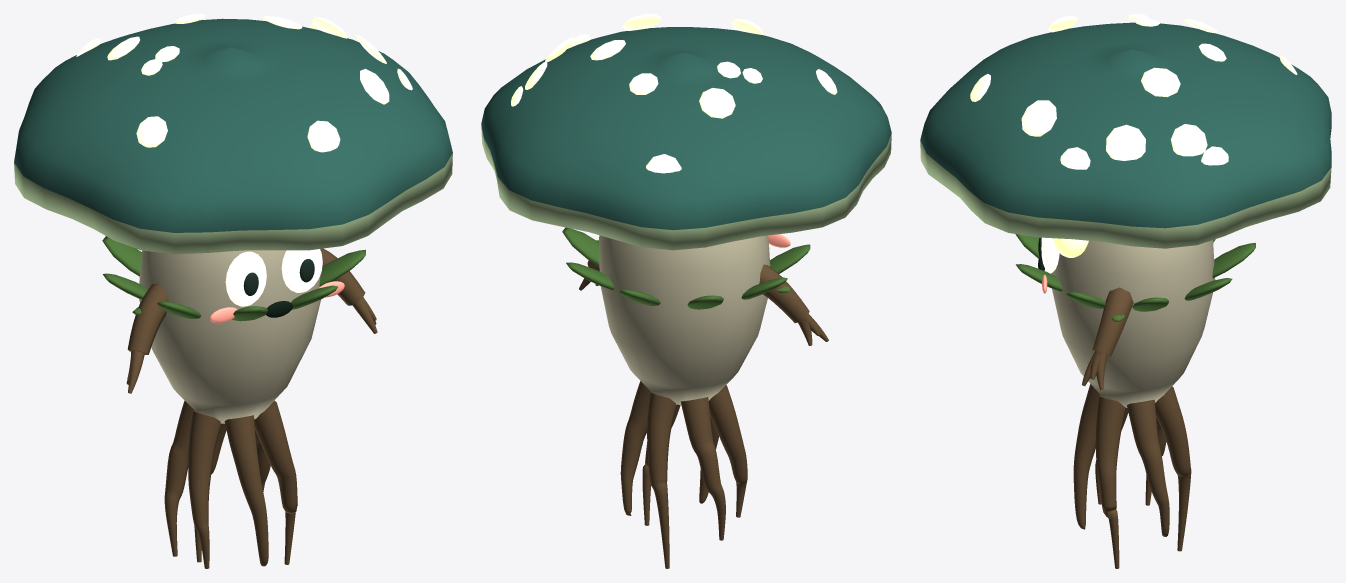
The model's file is mycel.glb.
The picture shows the model from 3 angles, left to right: view 1: azimuth 30°, elevation 25°; view 2: azimuth 150°, elevation 25°; view 3: azimuth 270°, elevation 25°; orthographic projection. The views are drawn at different scales.
Parts seen in each view (by area): view 1: Cap, Body, BodyExtras, Spots, ArmR, EyeR, EyeL, ArmL; view 2: Cap, Body, BodyExtras, Spots, ArmR; view 3: Cap, Body, BodyExtras, Spots, ArmL, Heartseed, EyeL.
Boxes of the visible parts, box(x1,y1,x2,y2) form: Cap: box(14, 18, 452, 254); Body: box(139, 250, 321, 423); BodyExtras: box(102, 236, 365, 568); Spots: box(76, 14, 412, 152); ArmR: box(126, 283, 168, 393); EyeR: box(225, 251, 266, 306); EyeL: box(281, 249, 322, 292); ArmL: box(320, 248, 377, 333); Cap: box(481, 27, 891, 250); Body: box(599, 235, 770, 404); BodyExtras: box(562, 227, 810, 568); Spots: box(511, 14, 837, 173); ArmR: box(759, 264, 828, 345); Cap: box(920, 22, 1331, 248); Body: box(1051, 240, 1215, 407); BodyExtras: box(1015, 234, 1255, 568); Spots: box(970, 14, 1297, 169); ArmL: box(1082, 287, 1133, 389); Heartseed: box(1053, 238, 1088, 257); EyeL: box(1041, 237, 1059, 273).
Size of the model in its own units: 1.36 by 1.83 by 1.34.
